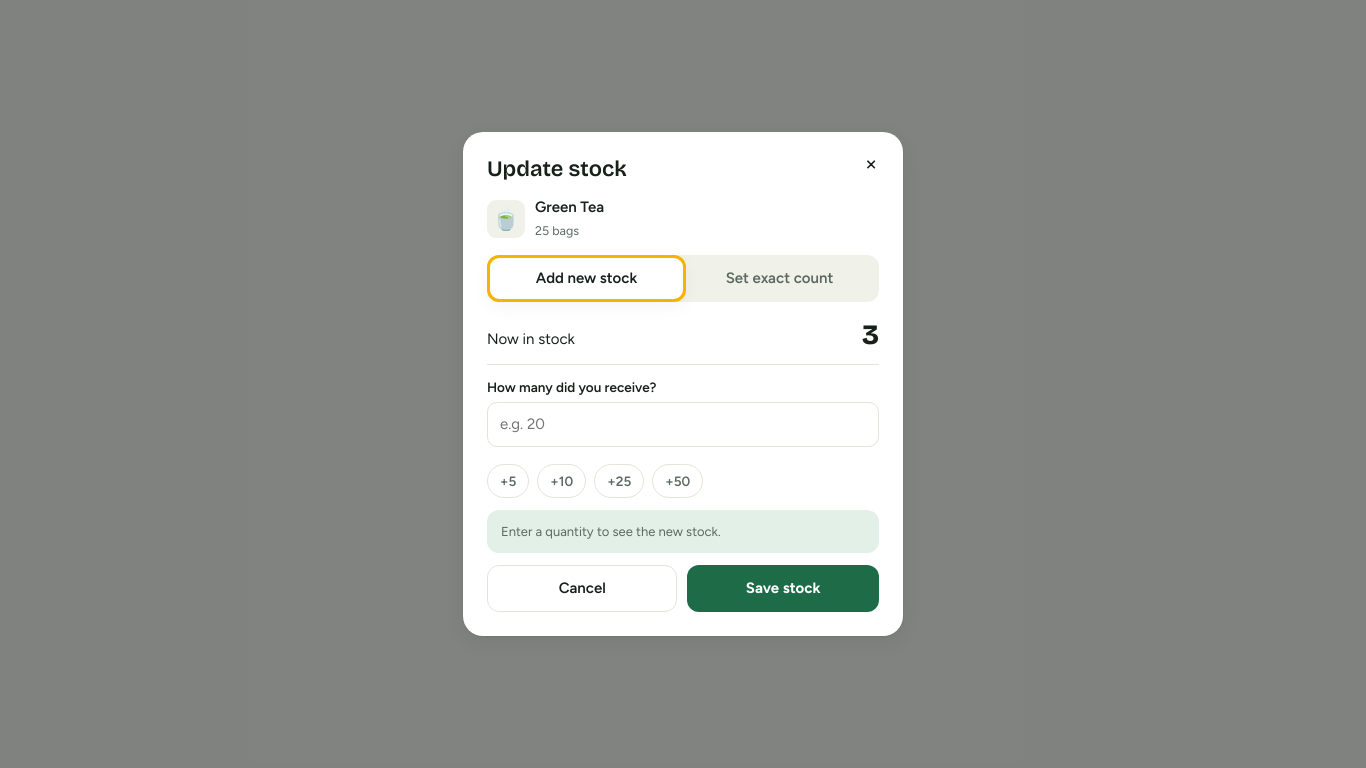
Update stock window › adds received stock with quick buttons and shows 3 → 13
Later steps or results of the test are not shown.
Click the button "+10". click: (562, 481)
box: [537,464,586,498]
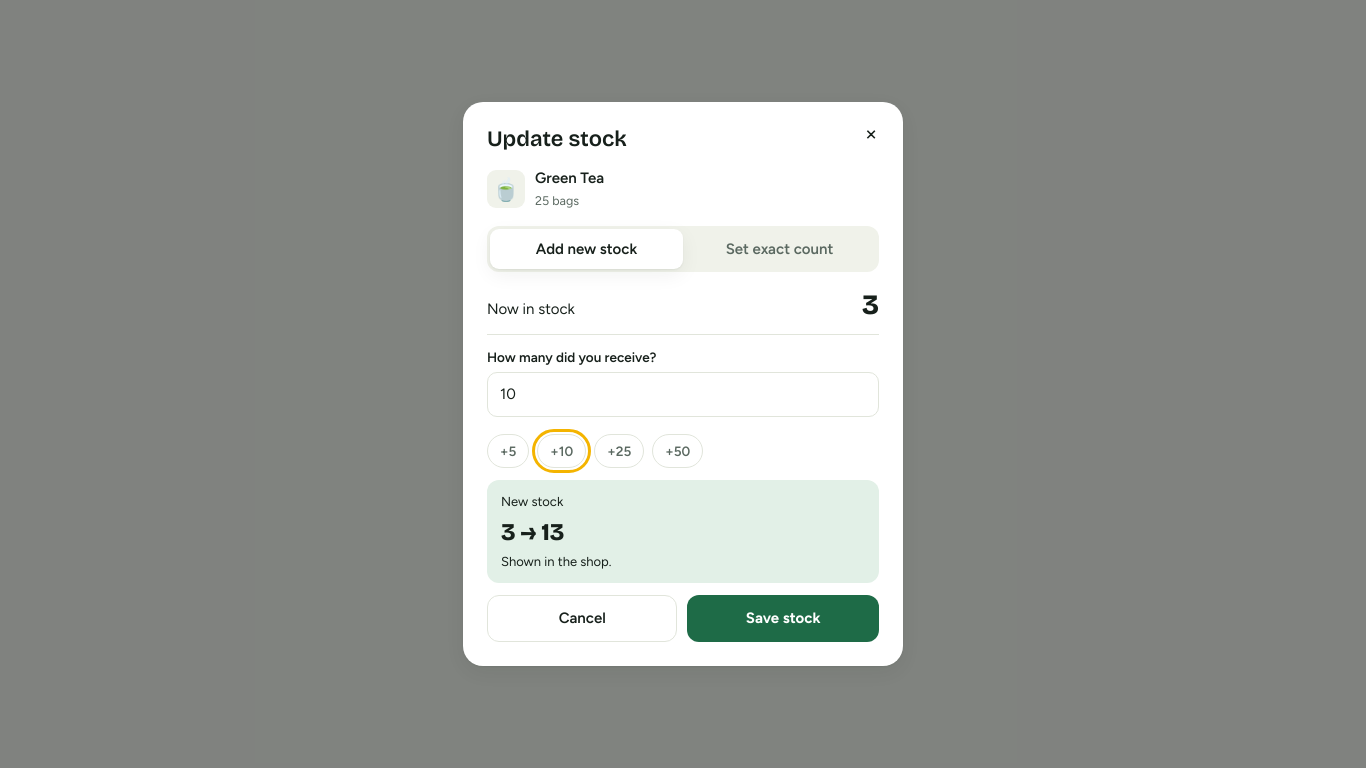
Result: the text "3 → 13" is shown at [501,518,564,546]
Result: the text "Shown in the shop." is shown at [501,554,612,569]
